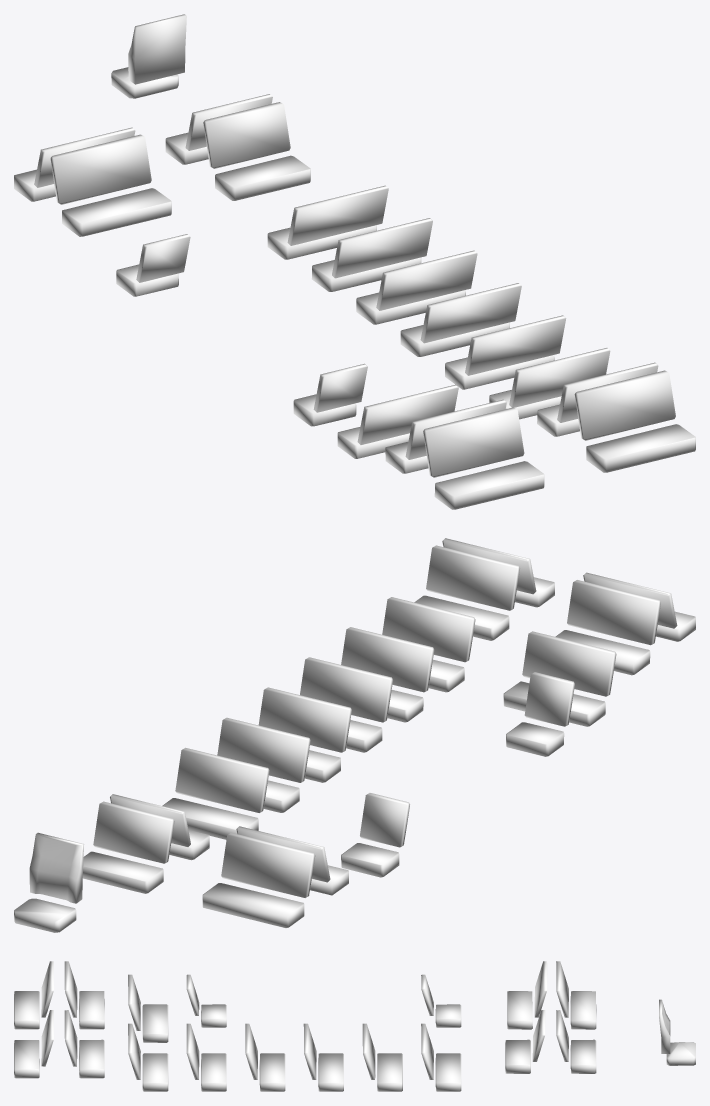
3 renders of one model, top to bottom at view 1: azimuth 30°, elevation 25°; view 2: azimuth 150°, elevation 25°; view 3: azimuth 270°, elevation 25°, orthographic. The views are drawn at different scales.
Size of the model in its own units: 2.17 by 0.8838 by 7.92.
Materials: 1 (1 with a texture image).
